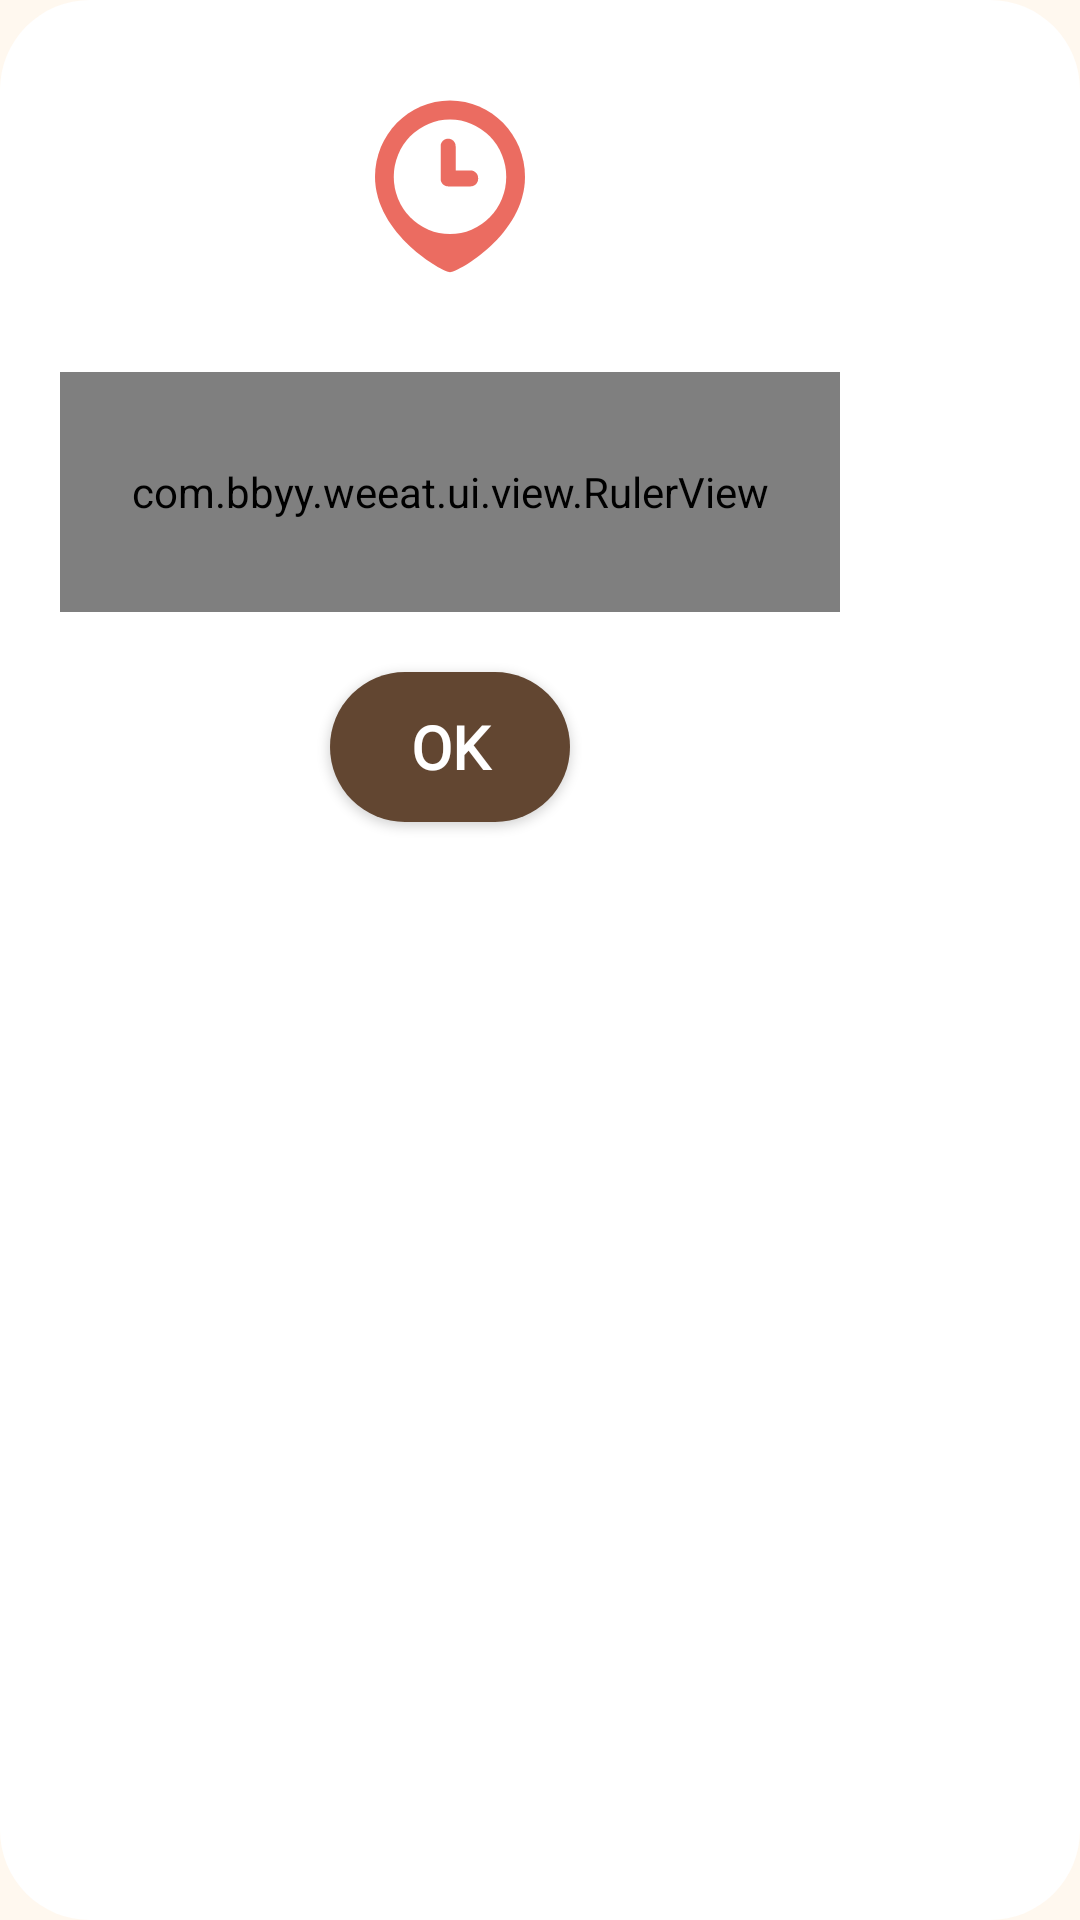

Locate icon controls on the screen. Image size 1080 x 1920, boxes as (x1, y1, x2, y2).
ad clock: (375, 100, 525, 272)
